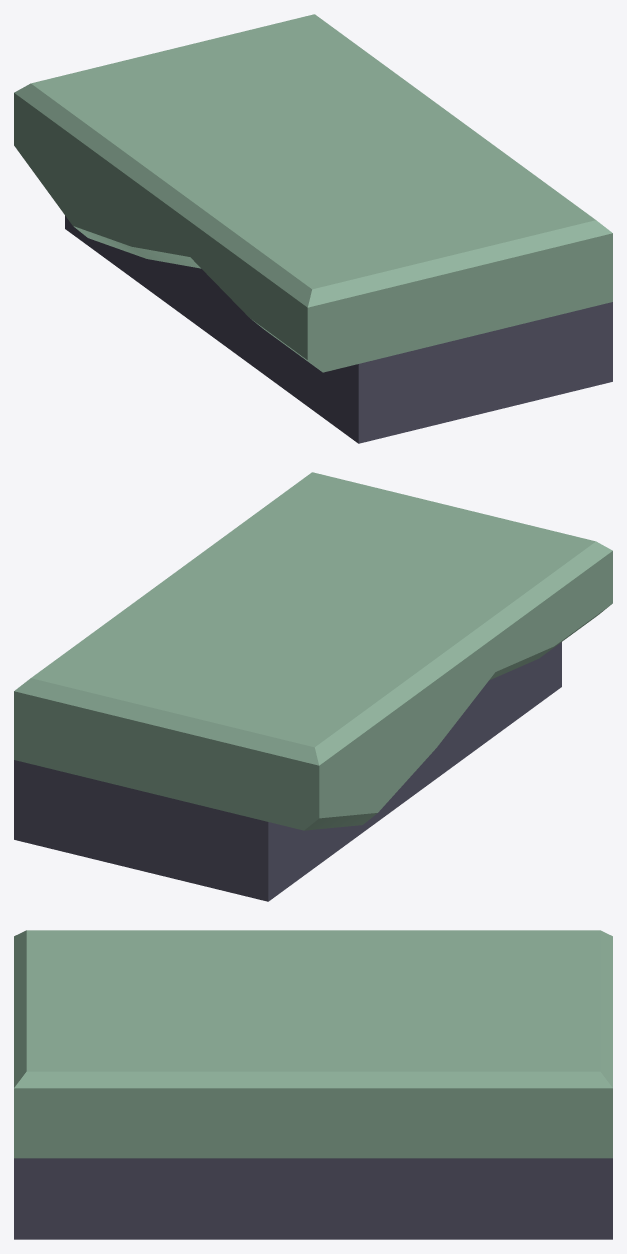
File: lefTile2.fbx
3 views of the same model, one above another, from view 1: azimuth 30°, elevation 25°; view 2: azimuth 150°, elevation 25°; view 3: azimuth 270°, elevation 25° (orthographic).
Parts seen in each view (by area): view 1: leftTile2; view 2: leftTile2; view 3: leftTile2.
Part boxes in pixels (<box>): leftTile2: <box>14,14,612,443</box>; leftTile2: <box>14,472,612,901</box>; leftTile2: <box>14,930,612,1239</box>.
Size of the model in its own units: 60 by 30 by 100.
